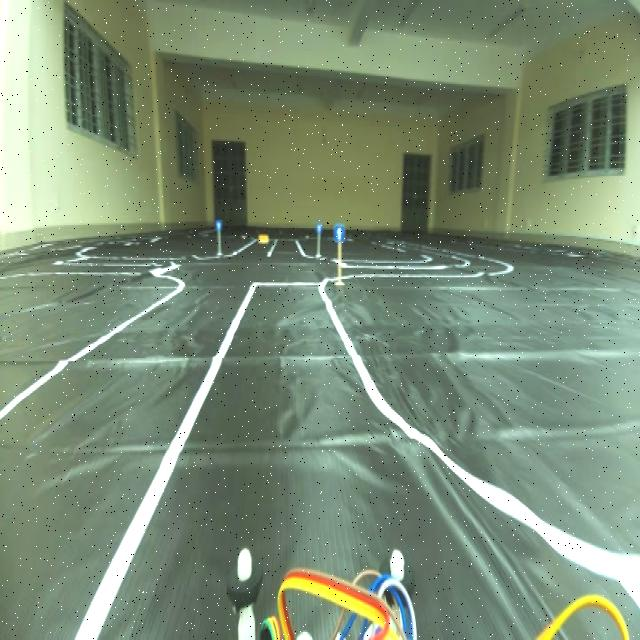onewayroad: (328, 220, 347, 249), (214, 214, 227, 233), (316, 216, 322, 234)
roadblock: (255, 232, 270, 246)
